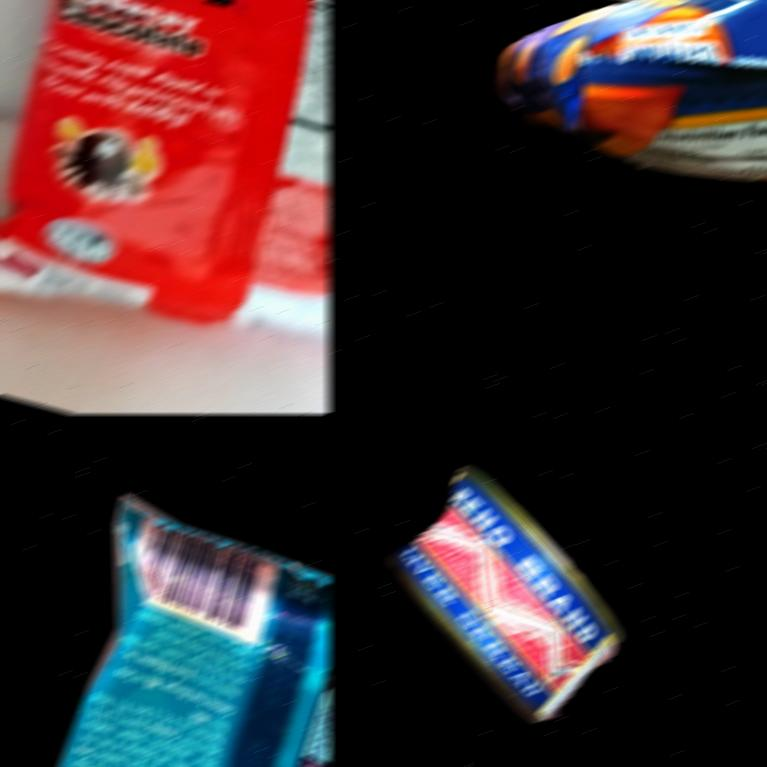bear brand: (57, 493, 330, 766)
moby chocolate: (0, 0, 330, 413)
reno: (388, 466, 622, 721)
vcut cheese: (496, 0, 767, 180)
